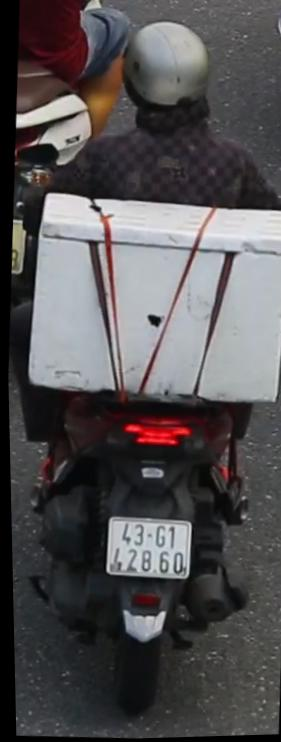LP: (99, 508, 194, 585)
helmet: (110, 16, 232, 152)
